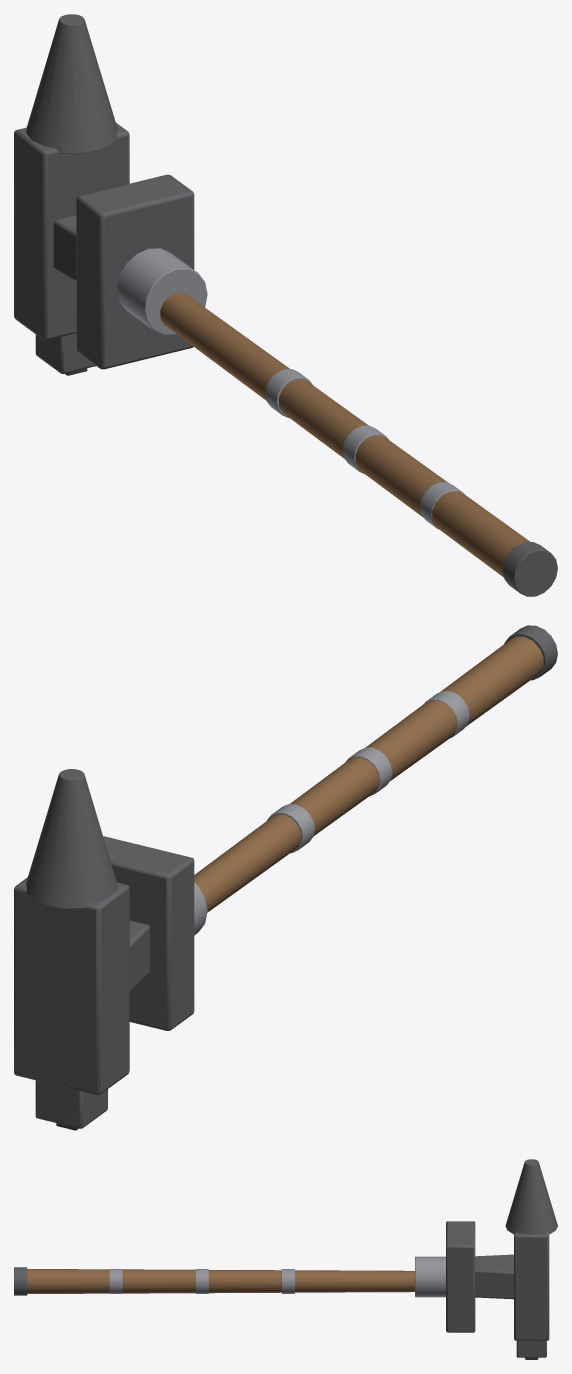
Rendered from mazo_yunque.glb.
3 renders of one model, top to bottom at view 1: azimuth 30°, elevation 25°; view 2: azimuth 150°, elevation 25°; view 3: azimuth 270°, elevation 25°, orthographic. The views are drawn at different scales.
Parts seen in each view (by area): view 1: mazo_yunque; view 2: mazo_yunque; view 3: mazo_yunque.
Boxes of the visible parts, x1,y1,x2,y2 form: mazo_yunque: (14,14,557,596); mazo_yunque: (14,625,557,1130); mazo_yunque: (14,1159,557,1359).
Bounding box in the file's own units: 0.12 × 0.425 × 1.07.
